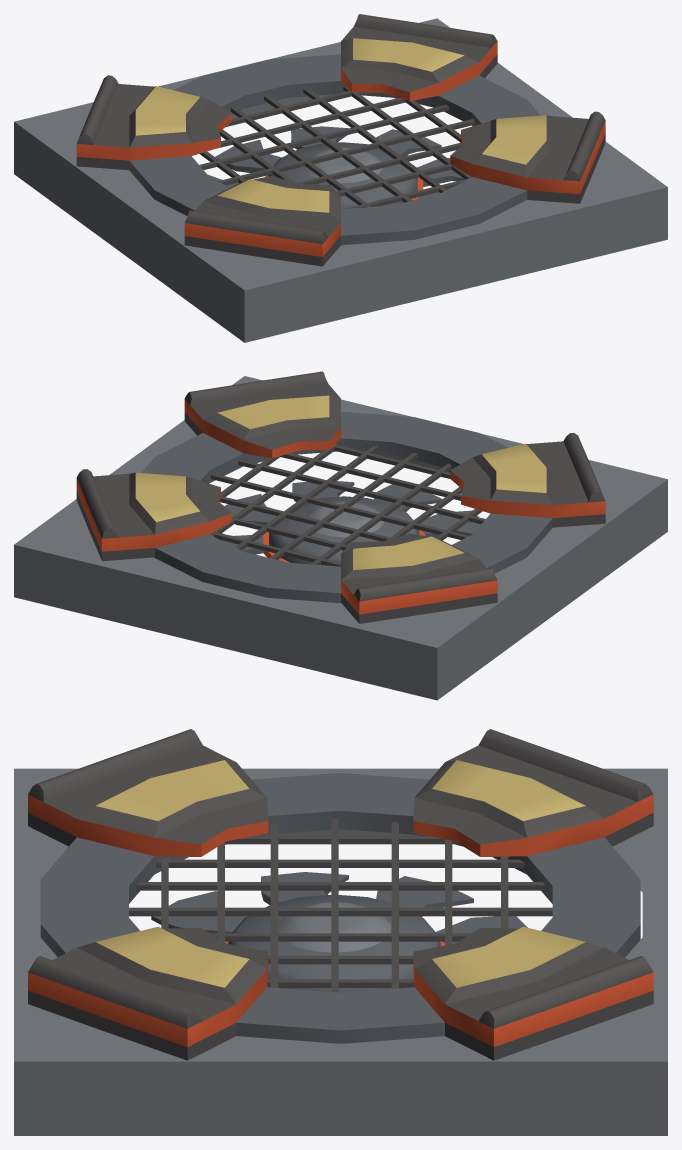
The model's file is Fan.fbx.
3 views of the same model, one above another, from view 1: azimuth 30°, elevation 25°; view 2: azimuth 150°, elevation 25°; view 3: azimuth 270°, elevation 25° (orthographic). The views are drawn at different scales.
Parts seen in each view (by area): view 1: Fan_Exterior, Plane001, Fann; view 2: Fan_Exterior, Plane001, Fann; view 3: Fan_Exterior, Plane001, Fann.
Boxes of the visible parts, <box> form: Fan_Exterior: <box>76,14,605,266</box>; Plane001: <box>14,18,667,342</box>; Fann: <box>207,126,464,209</box>; Fan_Exterior: <box>76,371,605,623</box>; Plane001: <box>14,376,667,700</box>; Fann: <box>221,481,480,565</box>; Fan_Exterior: <box>28,729,653,1060</box>; Plane001: <box>14,768,667,1135</box>; Fann: <box>151,872,527,992</box>.
Bounding box in the file's own units: 3.01 × 0.5688 × 2.84.
